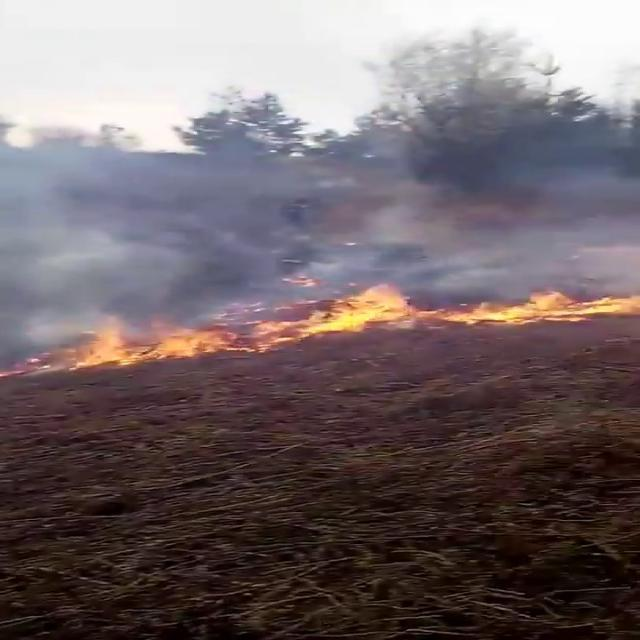Fire: (32, 280, 638, 370), (287, 277, 640, 333)
Smoke: (2, 2, 640, 313)
